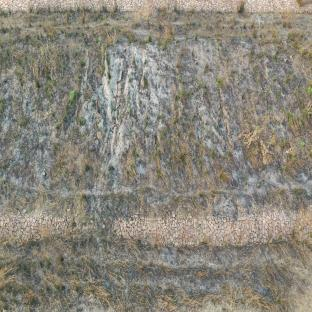rock_toe: (0, 207, 312, 251)
